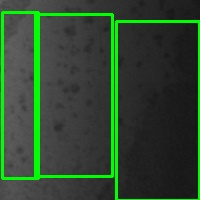pitted_surface: (116, 21, 199, 200), (35, 14, 112, 176), (2, 12, 38, 178)
